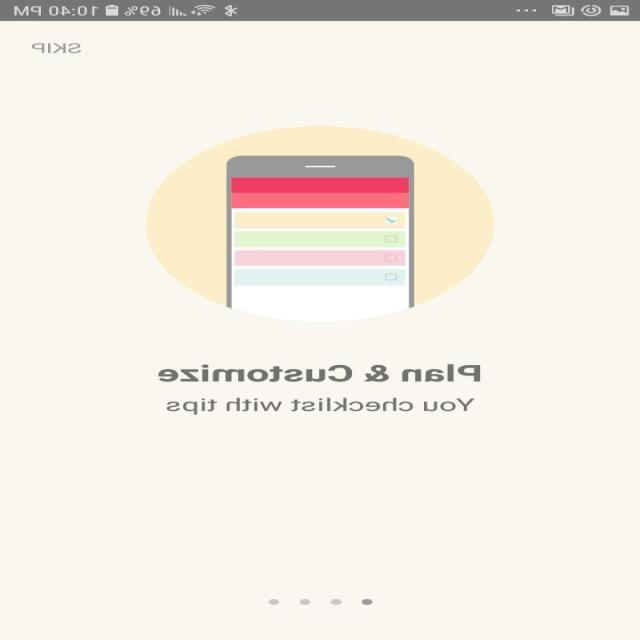Image: (145, 125, 496, 323)
Text: (158, 364, 481, 382), (166, 397, 476, 415), (32, 43, 83, 53)
